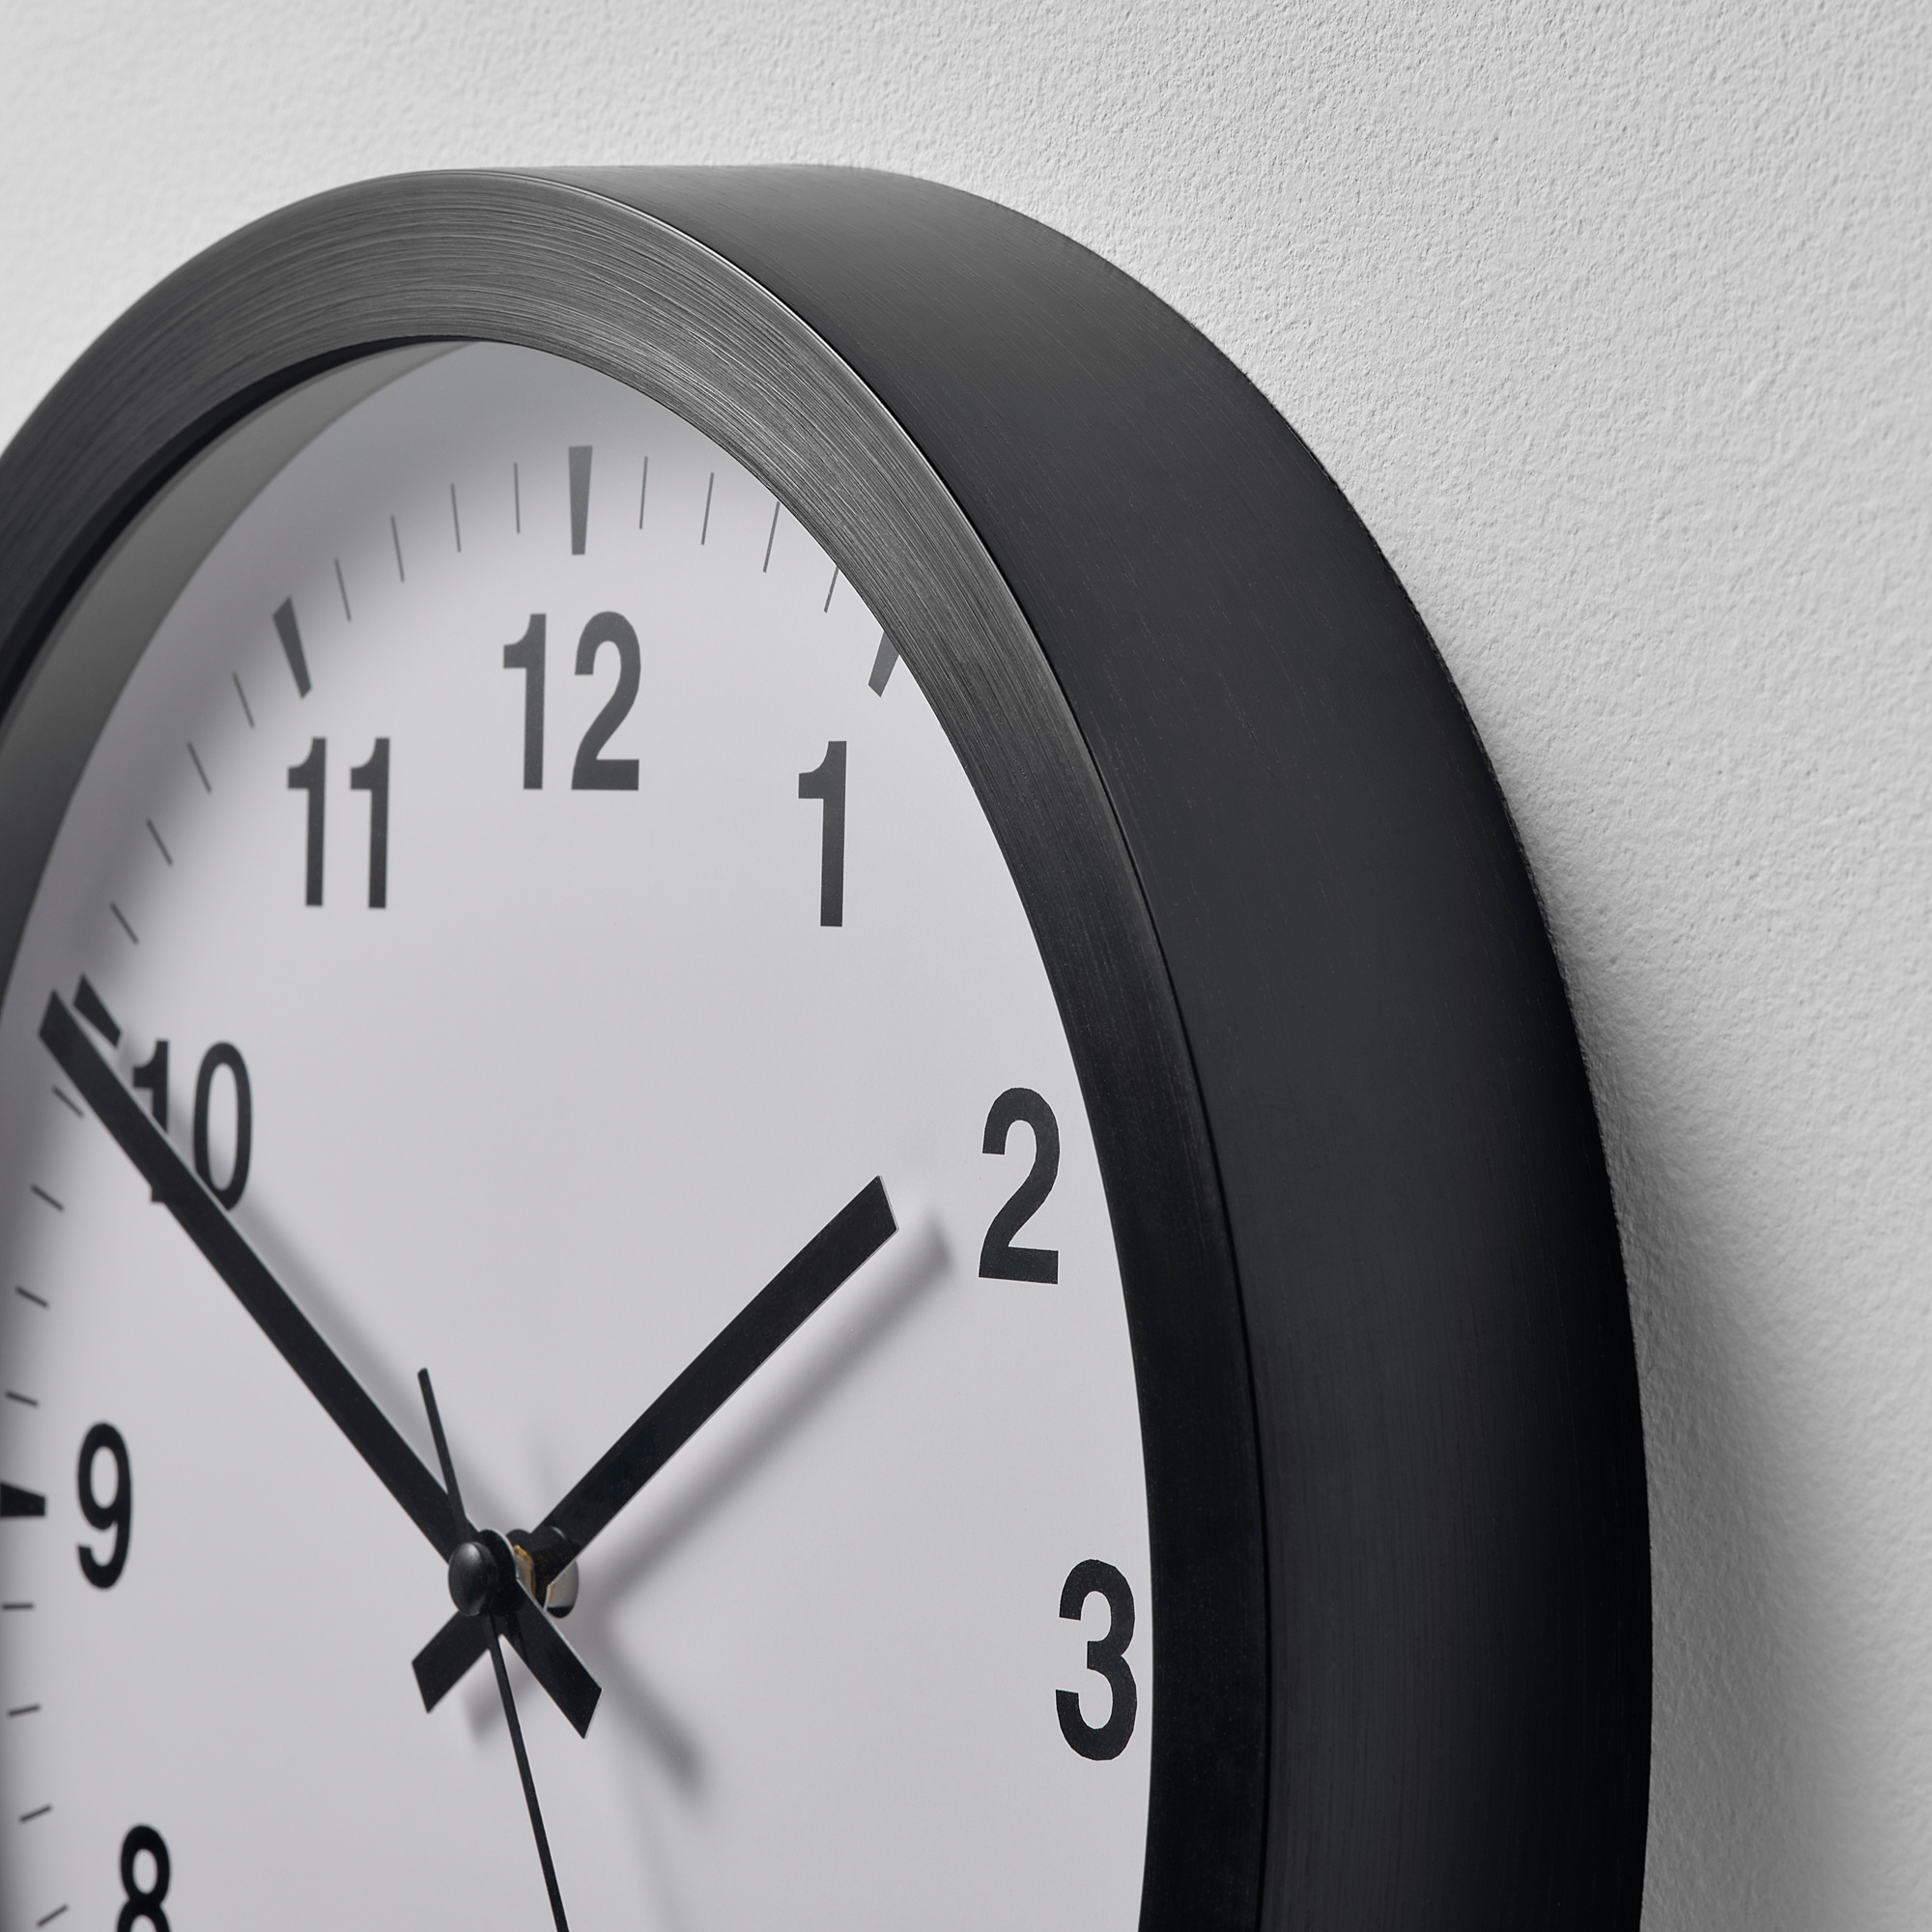jam dinding: (2, 78, 1656, 1932)
